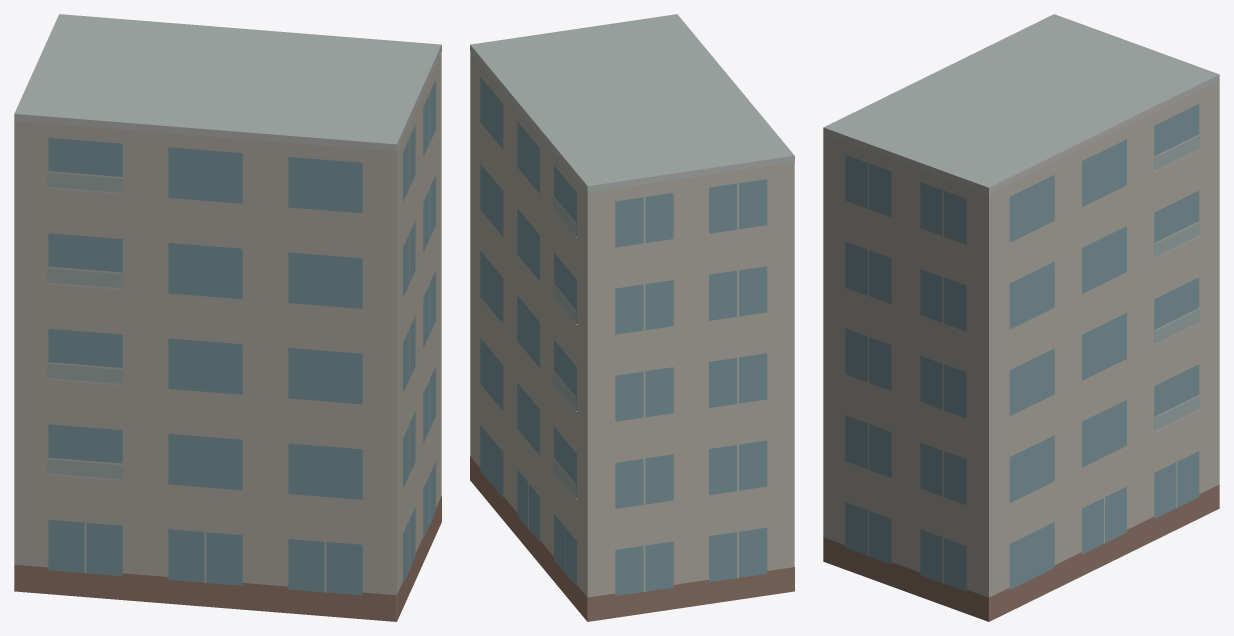
File: survey-upis-32703346.glb
The picture shows the model from 3 angles, left to right: view 1: azimuth 30°, elevation 25°; view 2: azimuth 150°, elevation 25°; view 3: azimuth 270°, elevation 25°; orthographic projection. The views are drawn at different scales.
Parts seen in each view (by area): view 1: survey-upis-32703346.tmp; view 2: survey-upis-32703346.tmp; view 3: survey-upis-32703346.tmp.
Boxes of the visible parts, x1,y1,x2,y2 form: survey-upis-32703346.tmp: (14, 14, 441, 621); survey-upis-32703346.tmp: (470, 14, 794, 621); survey-upis-32703346.tmp: (823, 14, 1219, 621).
Size of the model in its own units: 13.83 by 16.1 by 13.33.
